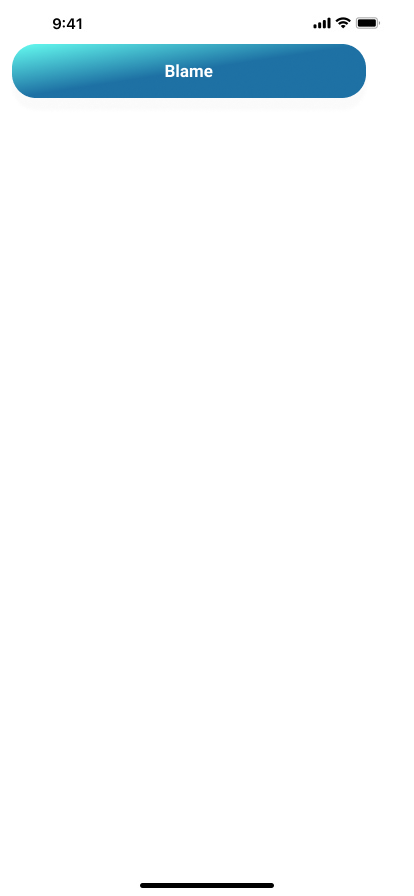Buttons: (8, 44, 374, 114)
Home Indicator: (0, 862, 414, 896)
Status Bar: (0, 0, 414, 44)
